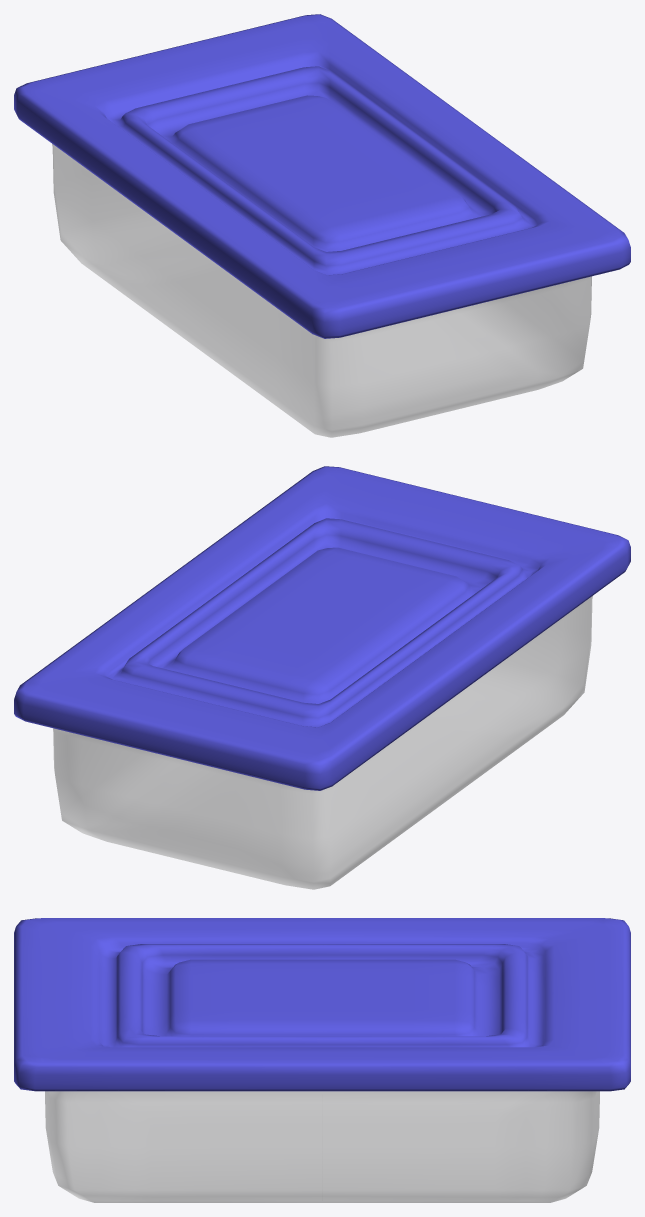
The model's file is tapaware.fbx.
3 renders of one model, top to bottom at view 1: azimuth 30°, elevation 25°; view 2: azimuth 150°, elevation 25°; view 3: azimuth 270°, elevation 25°, orthographic. The views are drawn at different scales.
Visible parts, largest first — view 1: pCube2, pCube1; view 2: pCube2, pCube1; view 3: pCube2, pCube1.
Boxes of the visible parts, x1,y1,x2,y2 form: pCube2: (14, 14, 630, 338); pCube1: (52, 144, 591, 437); pCube2: (14, 466, 630, 790); pCube1: (53, 596, 592, 889); pCube2: (14, 918, 630, 1091); pCube1: (45, 1091, 599, 1202).
Bounding box in the file's own units: 9.6 × 4.94 × 16.66.
